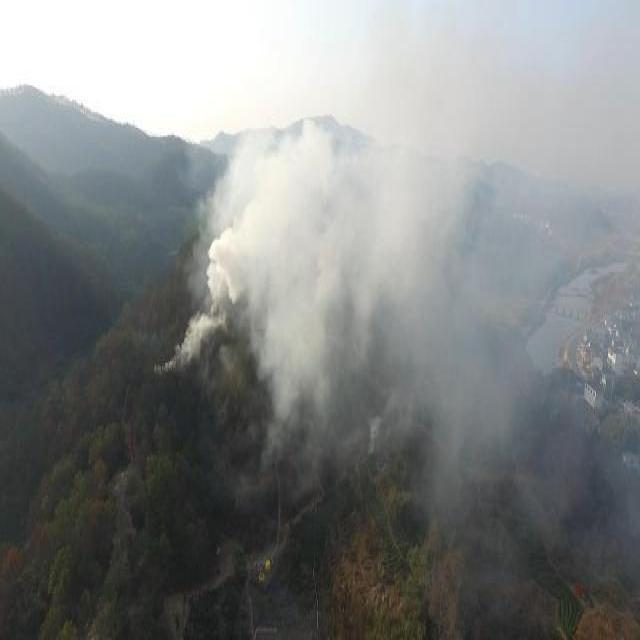Smoke: (155, 14, 640, 580)
